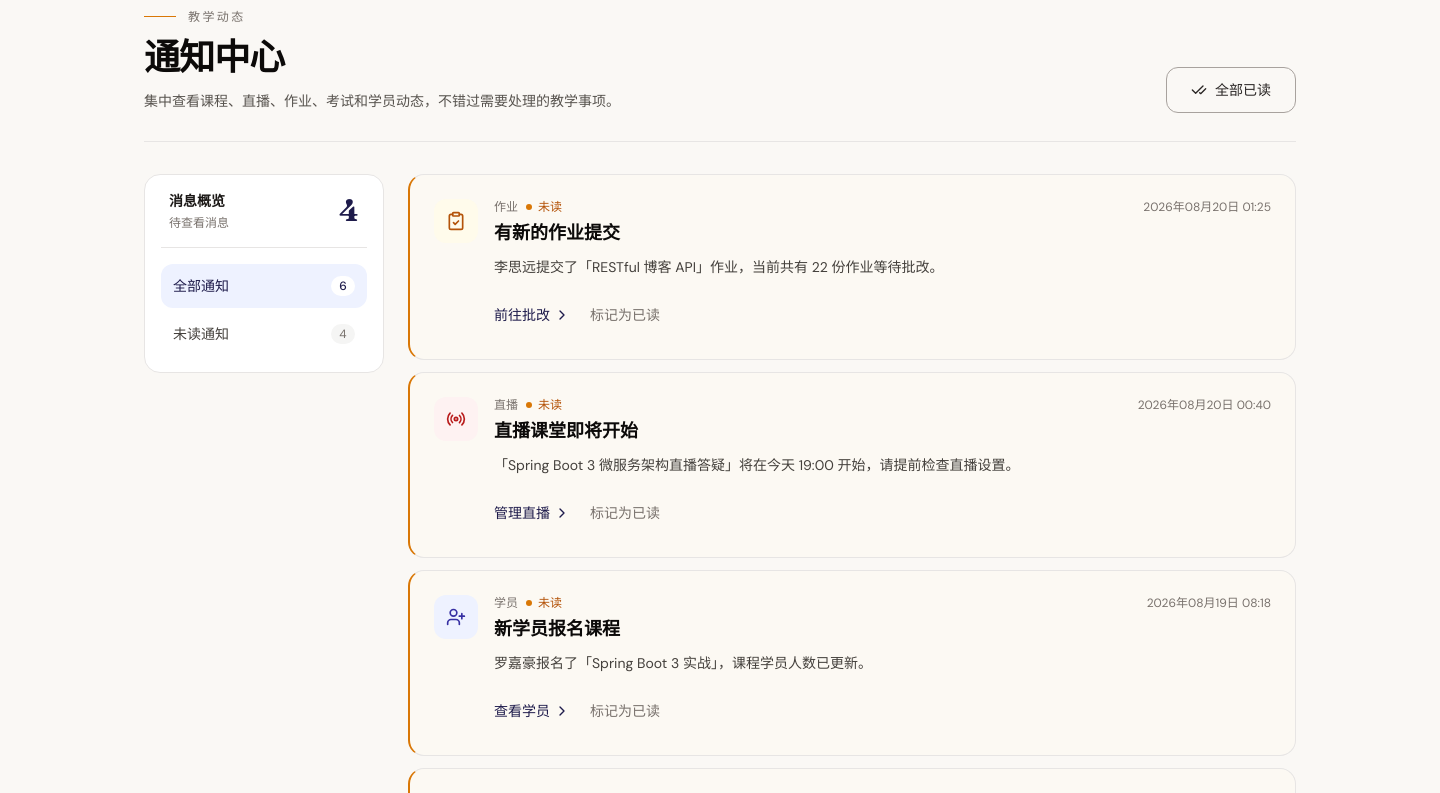
Notifications › 全部已读后在未读筛选中显示空状态
Click the button "未读通知 4": (264, 334) x1=161 y1=312 x2=367 y2=356
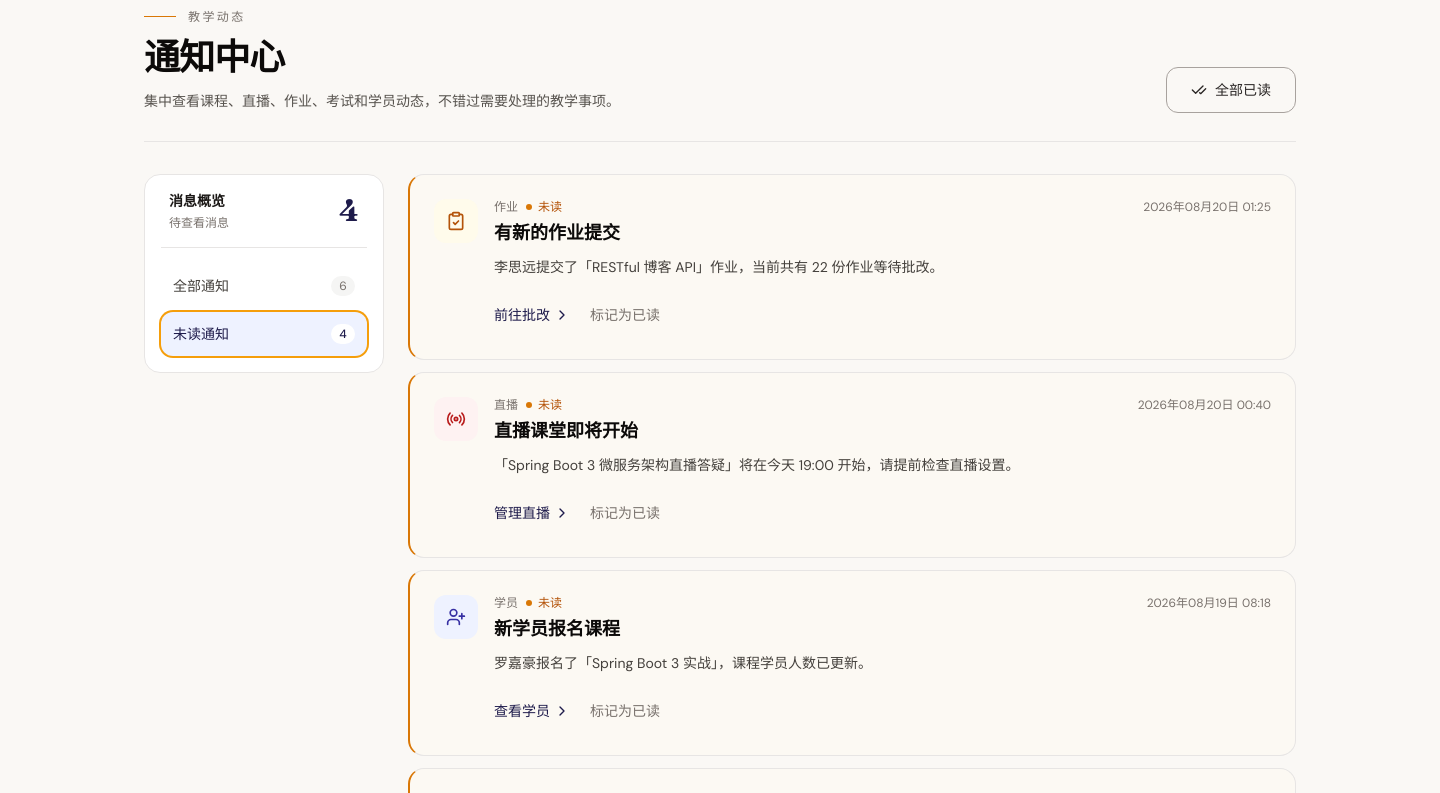
Click the button with aria-label "全部标记为已读": (1231, 90) x1=1166 y1=66 x2=1296 y2=112
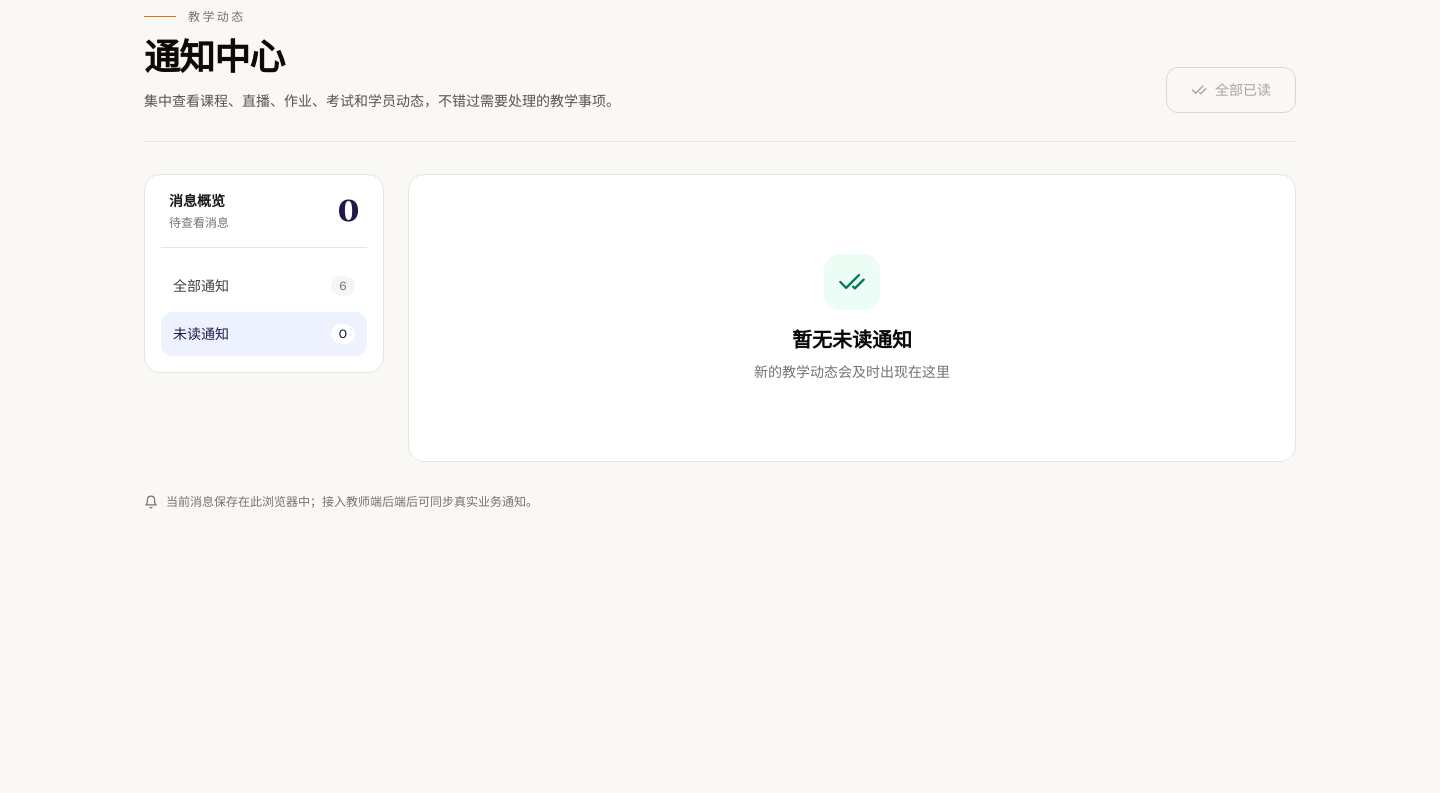
Check: the heading "暂无未读通知" is shown, box x1=792 y1=326 x2=912 y2=354
Check: the text "新的教学动态会及时出现在这里" is shown, box x1=754 y1=362 x2=950 y2=382
